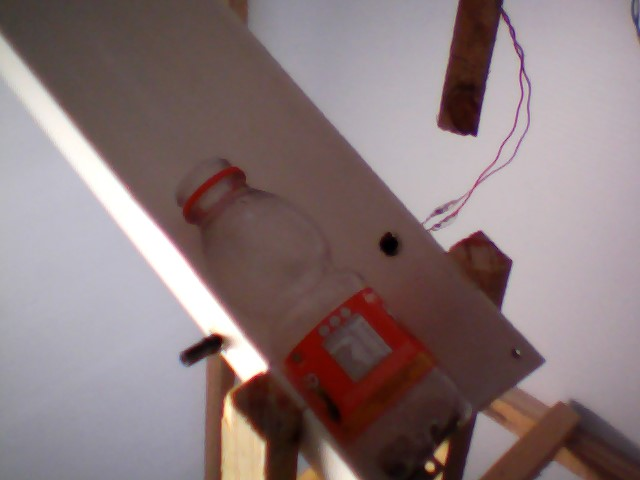plastico: (168, 155, 484, 480)
